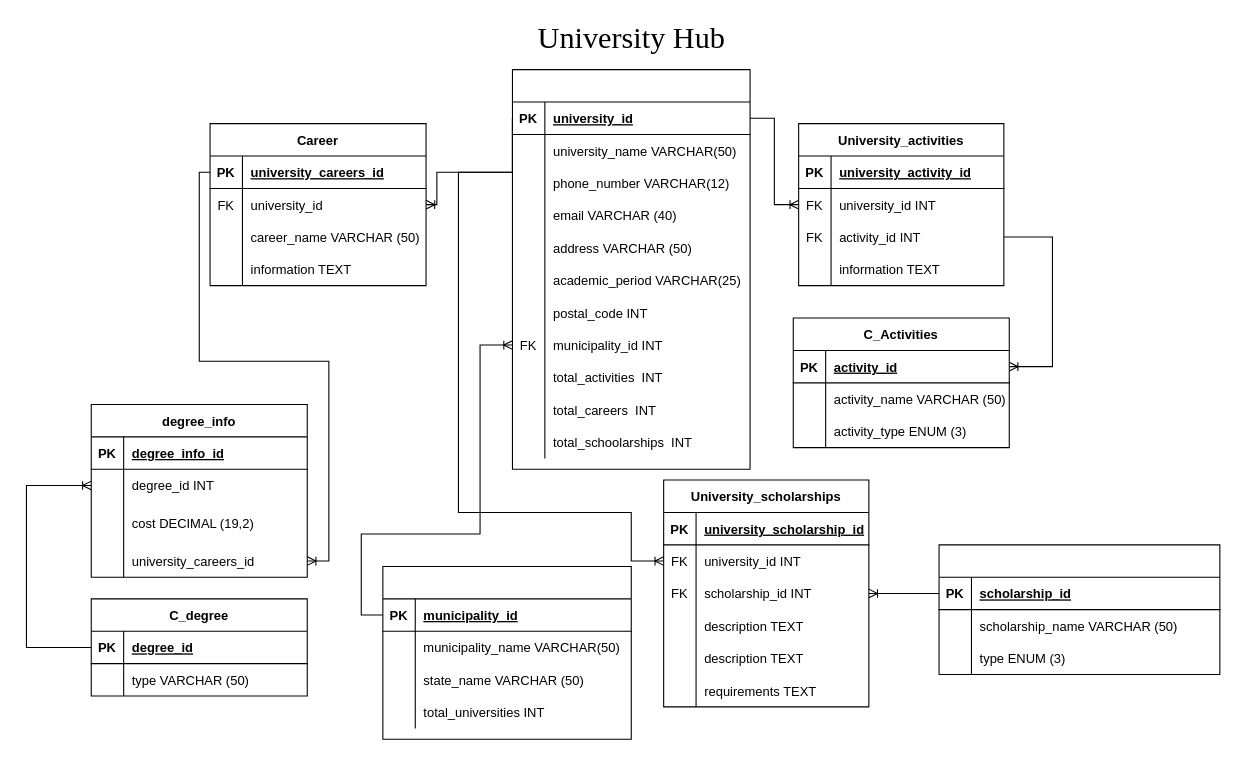
Image size: 1239x758. Some labels were removed from this diagram. The box of each missing label's shape, as (x1, y1, x2, y2) in pixels:
C_Municipalities: (382, 565, 631, 739)
Scholarships: (938, 544, 1220, 674)
Universites: (511, 69, 750, 469)
